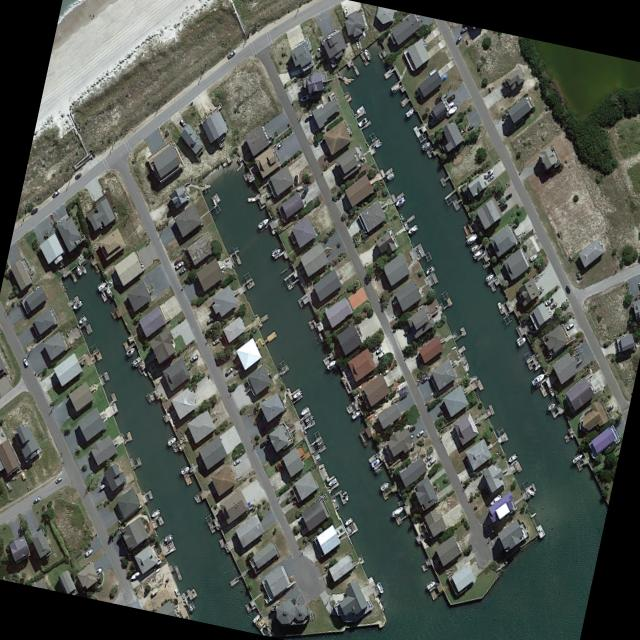ship: (530, 370, 546, 385), (390, 504, 403, 517), (488, 492, 501, 505), (444, 103, 457, 116), (256, 215, 268, 228), (471, 246, 482, 259), (483, 165, 494, 177), (465, 232, 477, 243), (389, 81, 399, 92), (325, 358, 336, 368), (406, 223, 417, 233), (357, 115, 367, 126), (130, 355, 141, 365), (71, 298, 81, 309), (571, 452, 582, 462), (375, 580, 383, 593), (96, 280, 106, 290), (270, 246, 280, 256), (350, 408, 360, 418), (378, 480, 388, 490), (394, 195, 404, 205), (149, 507, 159, 517), (326, 476, 336, 486), (299, 405, 309, 415), (420, 139, 430, 149), (506, 452, 516, 462), (76, 314, 86, 323), (92, 565, 101, 575), (83, 546, 92, 556), (162, 533, 172, 542), (129, 570, 139, 579), (251, 612, 260, 622), (291, 388, 301, 397), (244, 496, 253, 506), (166, 435, 175, 445), (404, 106, 413, 116), (425, 578, 434, 588), (515, 335, 525, 344), (343, 516, 352, 525), (179, 464, 188, 473), (469, 242, 478, 251), (528, 251, 537, 260), (484, 272, 493, 281), (355, 103, 363, 113), (341, 489, 348, 500), (342, 4, 348, 16), (125, 346, 134, 354), (304, 413, 312, 422), (526, 486, 534, 495), (289, 68, 299, 75), (75, 264, 82, 274), (385, 170, 393, 178), (546, 401, 554, 409), (299, 93, 308, 100), (547, 386, 554, 395), (213, 191, 219, 201), (187, 601, 193, 610), (192, 493, 198, 502), (533, 362, 540, 369), (246, 195, 255, 200), (374, 140, 381, 146), (173, 586, 178, 594), (361, 29, 365, 36)
small-vehicle: (298, 185, 308, 199), (362, 46, 371, 59), (424, 264, 434, 274), (496, 300, 503, 313), (544, 295, 553, 305), (172, 255, 181, 265), (226, 47, 235, 57), (445, 92, 454, 101), (174, 259, 183, 268), (377, 348, 385, 358), (224, 365, 232, 375), (426, 455, 434, 465), (260, 437, 269, 445), (499, 201, 507, 210), (503, 191, 511, 200), (565, 320, 573, 329), (51, 187, 59, 196), (205, 315, 213, 324), (211, 336, 219, 345), (189, 352, 197, 361), (423, 452, 431, 461), (415, 427, 423, 436), (370, 343, 378, 351), (486, 172, 494, 180), (466, 121, 474, 129), (73, 170, 81, 178), (232, 456, 240, 464), (605, 403, 613, 411), (21, 356, 28, 365), (178, 265, 185, 274), (436, 407, 443, 416), (54, 474, 61, 483), (564, 283, 570, 293), (549, 300, 556, 308), (178, 117, 185, 125), (31, 495, 39, 502), (30, 205, 37, 213), (420, 374, 427, 382), (292, 173, 297, 184), (459, 25, 466, 32), (375, 345, 382, 352), (407, 424, 414, 431), (455, 34, 461, 42), (233, 366, 239, 374), (637, 280, 640, 289)
